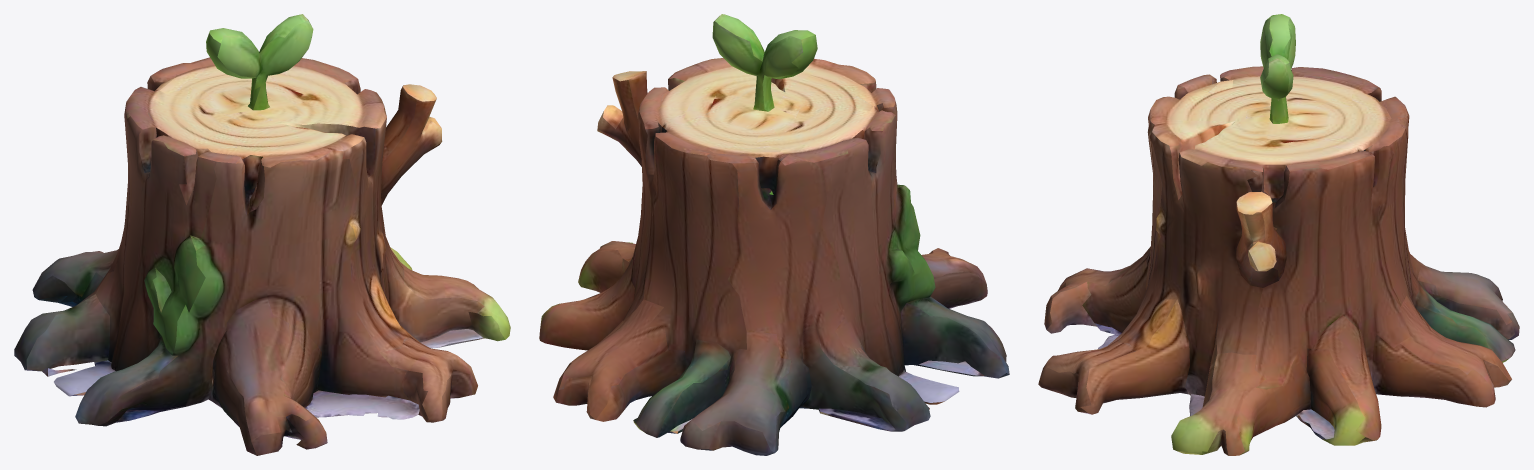
The model's file is stump.glb.
3 renders of one model, left to right at view 1: azimuth 30°, elevation 25°; view 2: azimuth 150°, elevation 25°; view 3: azimuth 270°, elevation 25°, orthographic.
Visible parts, largest first — view 1: stump_s15; view 2: stump_s15; view 3: stump_s15.
Boxes of the visible parts, <box> form: stump_s15: <box>14,14,510,455</box>; stump_s15: <box>539,14,1009,455</box>; stump_s15: <box>1038,14,1519,455</box>.
Bounding box in the file's own units: 0.9925 × 0.7398 × 1.
1 material, 1 textured.
